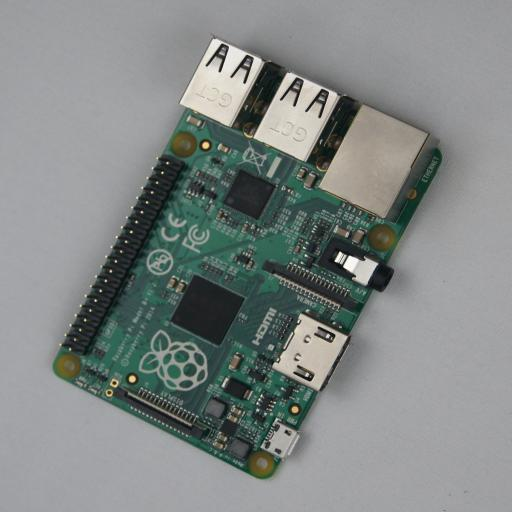Raspberry Pi 1 B-: (53, 35, 446, 479)
